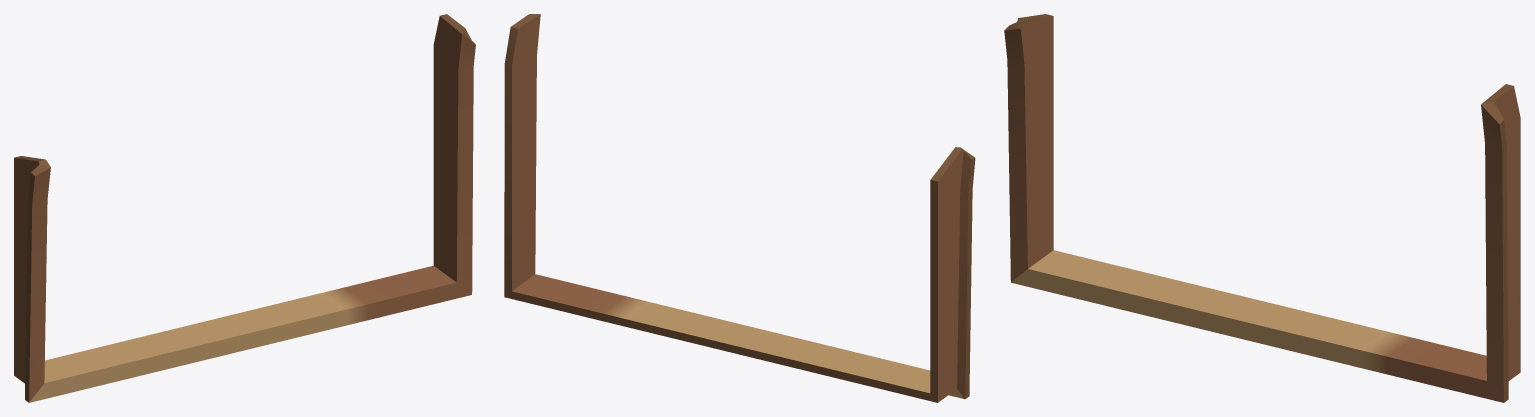
The model's file is DBK_WinBig_Trim_A_Tile.fbx.
3 views of the same model, side by side, from view 1: azimuth 30°, elevation 25°; view 2: azimuth 150°, elevation 25°; view 3: azimuth 330°, elevation 25° (orthographic). The views are drawn at different scales.
Parts seen in each view (by area): view 1: DBK_WinBig_Trim_A_Tile; view 2: DBK_WinBig_Trim_A_Tile; view 3: DBK_WinBig_Trim_A_Tile.
Part boxes in pixels (<box>): DBK_WinBig_Trim_A_Tile: <box>14,14,475,402</box>; DBK_WinBig_Trim_A_Tile: <box>504,14,975,402</box>; DBK_WinBig_Trim_A_Tile: <box>1004,14,1520,402</box>.
Bounding box in the file's own units: 214 × 125 × 24.79.
